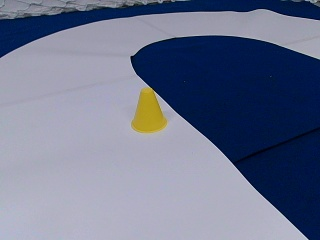cone: (131, 88, 166, 132)
